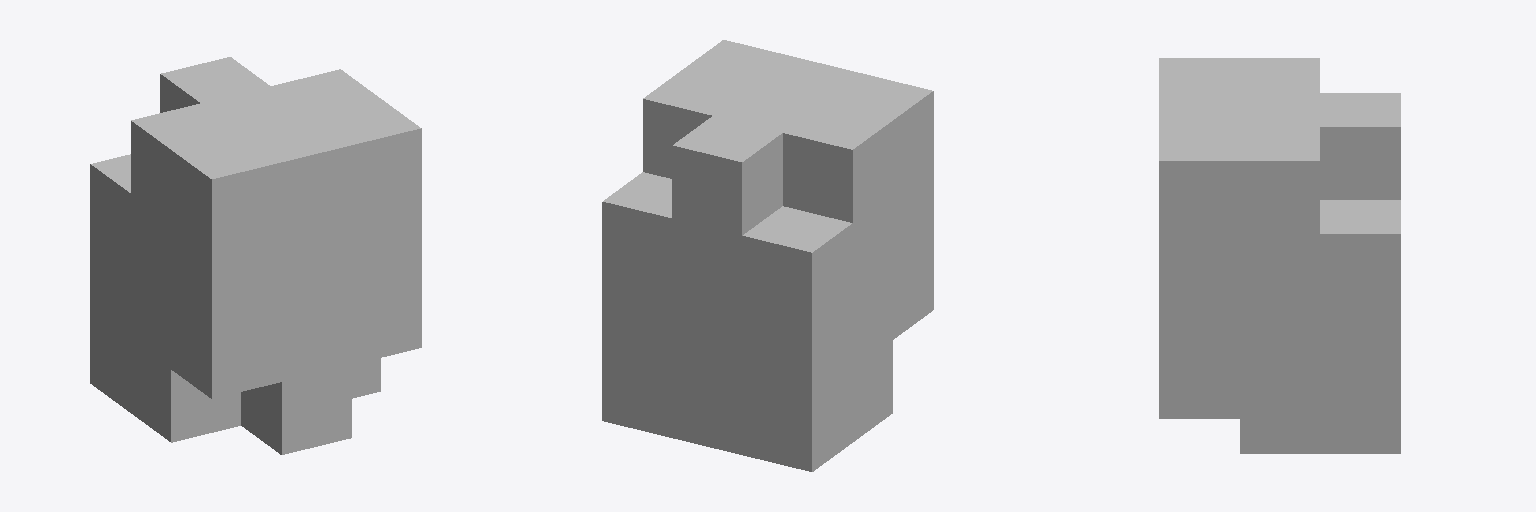
File: alien head.obj
3 renders of one model, left to right at view 1: azimuth 30°, elevation 25°; view 2: azimuth 150°, elevation 25°; view 3: azimuth 270°, elevation 25°, orthographic.
Parts seen in each view (by area): view 1: object 1; view 2: object 1; view 3: object 1.
Boxes of the visible parts, x1,y1,x2,y2 form: object 1: [90, 57, 421, 454]; object 1: [602, 40, 933, 471]; object 1: [1159, 58, 1400, 453].
Size of the model in its own units: 0.3 by 0.4 by 0.3.